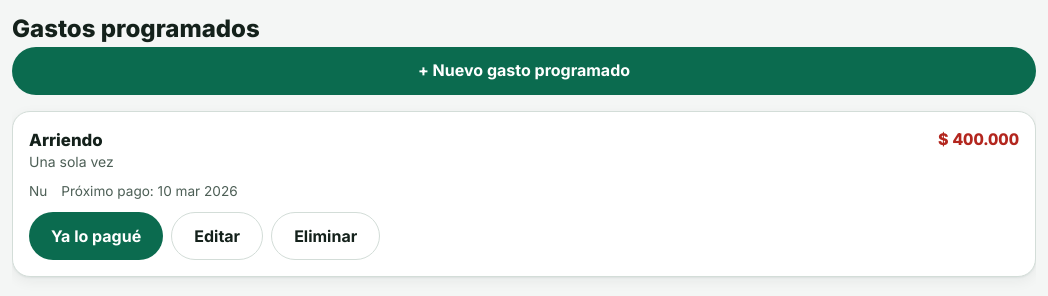
Programados › "Ya lo pagué" registra el gasto real y lo quita de los pendientes
The width and height of the screenshot is (1048, 296).
Step 1. Click the button with aria-label "ya lo pagué: arriendo" → (96, 236), box [29,212,163,260]
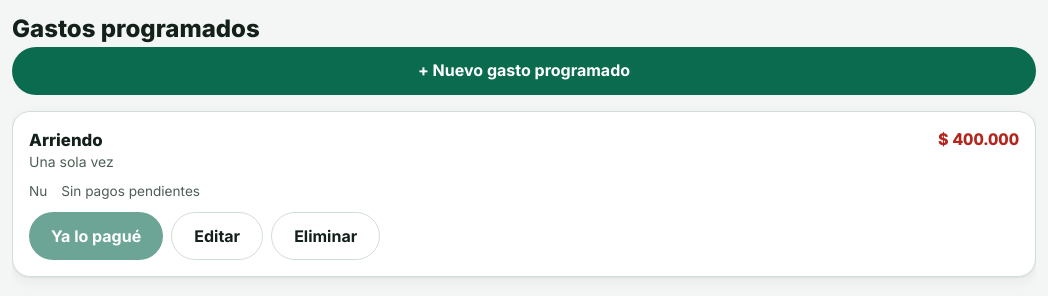
Check: the text "Sin pagos pendientes" is shown, box [61,182,200,202]
